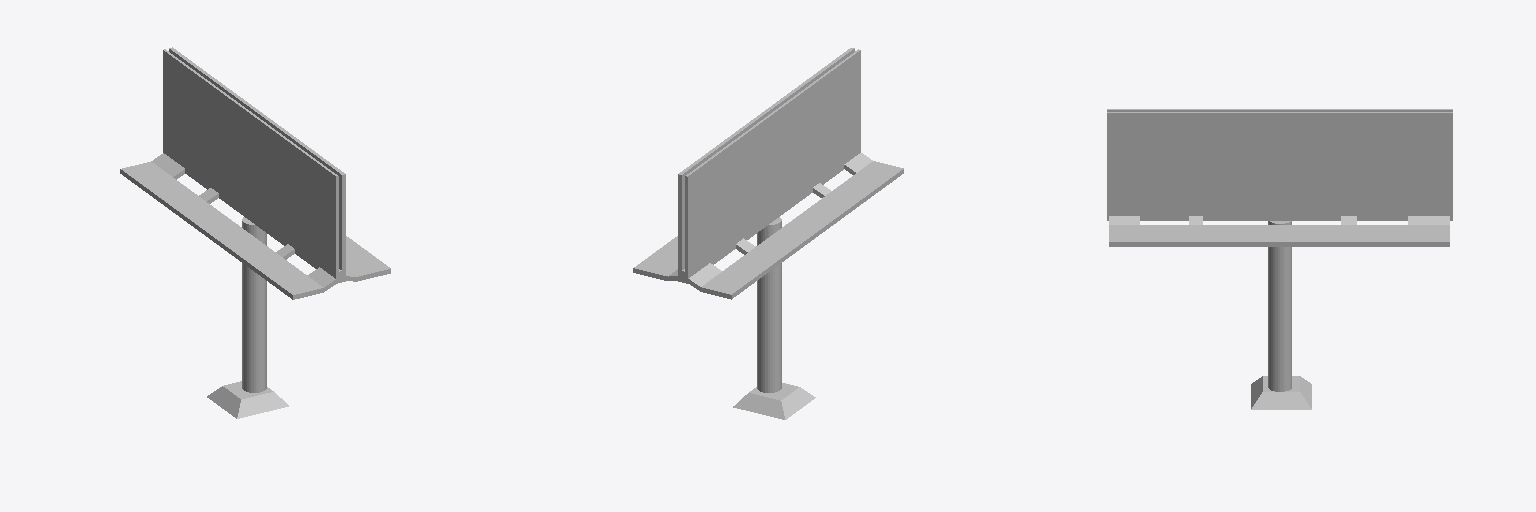
Rendered from uploads_files_1836977_billboard.obj.
3 views of the same model, side by side, from view 1: azimuth 30°, elevation 25°; view 2: azimuth 150°, elevation 25°; view 3: azimuth 270°, elevation 25° (orthographic).
Parts seen in each view (by area): view 1: Cube_Cube.001, Cylinder, Cube.001_Cube.002; view 2: Cube_Cube.001, Cylinder, Cube.001_Cube.002; view 3: Cube_Cube.001, Cylinder, Cube.001_Cube.002.
Boxes of the visible parts, x1,y1,x2,y2 form: Cube_Cube.001: [120, 47, 390, 299]; Cylinder: [242, 217, 266, 392]; Cube.001_Cube.002: [207, 381, 288, 418]; Cube_Cube.001: [633, 48, 903, 299]; Cylinder: [757, 217, 781, 392]; Cube.001_Cube.002: [733, 383, 815, 419]; Cube_Cube.001: [1107, 109, 1452, 246]; Cylinder: [1268, 221, 1291, 391]; Cube.001_Cube.002: [1251, 376, 1311, 409].
Size of the model in its own units: 2.58 by 7.18 by 7.81.